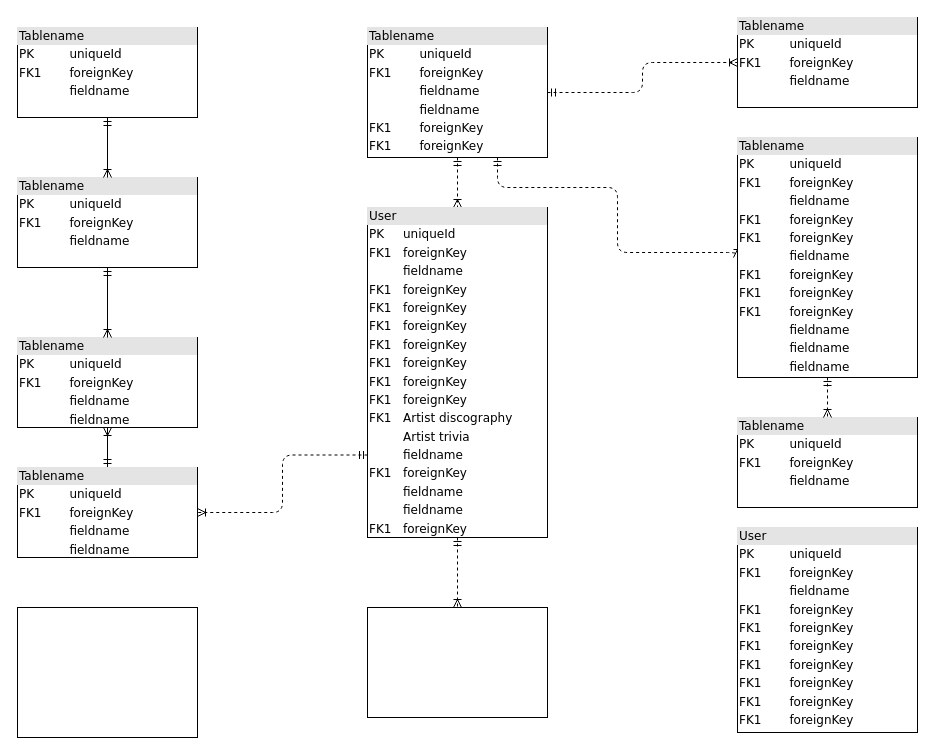
Image size: 935x755. Some labels were removed from this diagram. Each missing label, with the centre of its shape:
"Album PK uniqueId FK1 foreignKey fieldname fieldname FK1 foreignKey" belongs at point 457,662.
"Artist PK uniqueId FK1 foreignKey fieldname fieldname fieldname fieldname" belongs at point 107,672.
